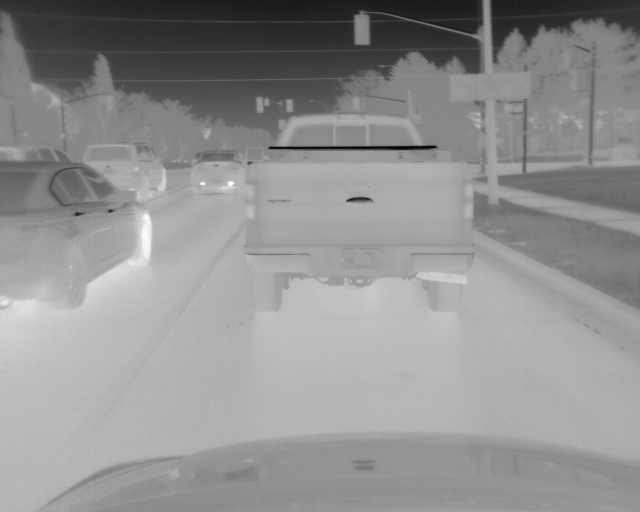car: (243, 113, 475, 314), (1, 161, 156, 310), (83, 143, 168, 198), (188, 149, 250, 196), (1, 147, 73, 162)
